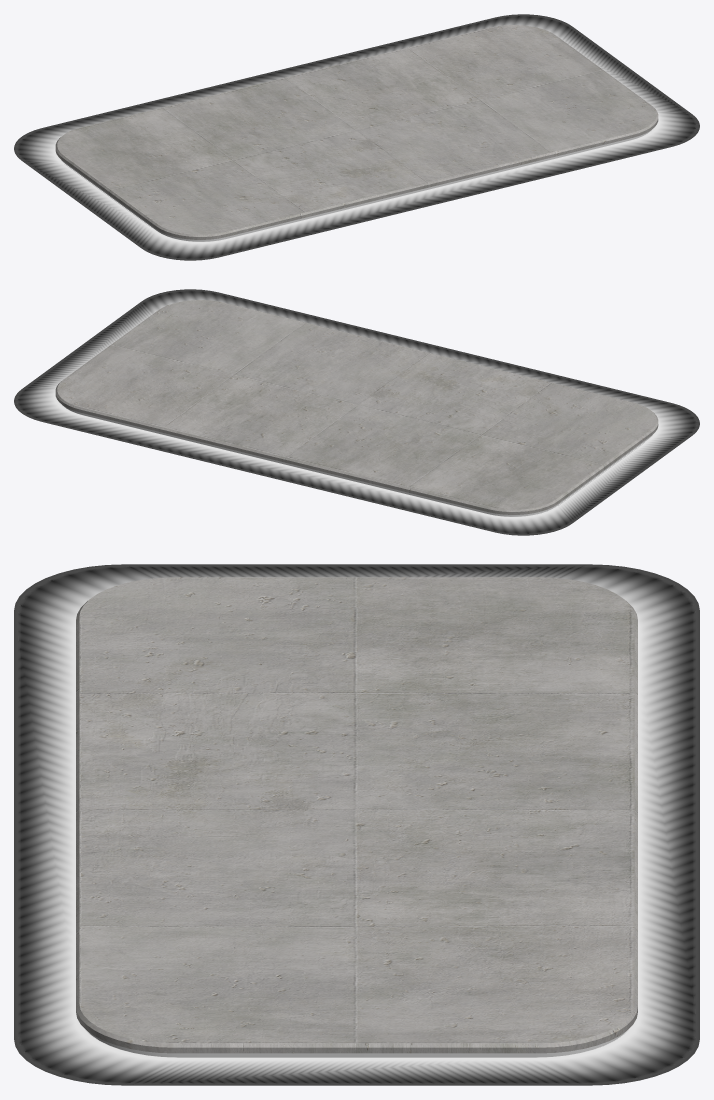
Rendered from FloorIsland1x2.fbx.
3 views of the same model, one above another, from view 1: azimuth 30°, elevation 25°; view 2: azimuth 150°, elevation 25°; view 3: azimuth 270°, elevation 25° (orthographic). The views are drawn at different scales.
Parts seen in each view (by area): view 1: FloorSegment1x2; view 2: FloorSegment1x2; view 3: FloorSegment1x2.
Boxes of the visible parts, left/top/right/bottom form: FloorSegment1x2: left=14, top=14, right=699, bottom=260; FloorSegment1x2: left=14, top=289, right=699, bottom=535; FloorSegment1x2: left=14, top=564, right=699, bottom=1085.
Bounding box in the file's own units: 11.13 × 0.1697 × 6.19.
